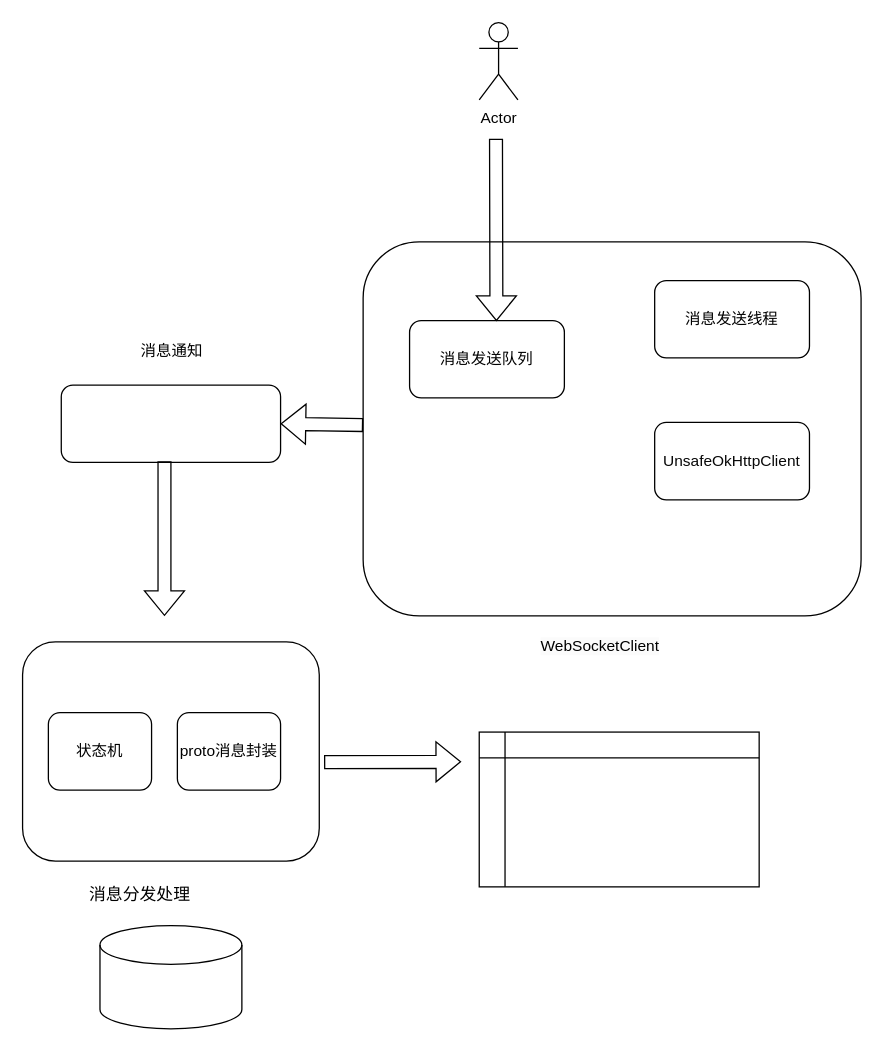
Some shapes in this 884 by 1051 pixel diagram are drawn without their labels. The shapes that lost their labels are listed below. From the top down, each one's centre as x and y in pixels, then its label:
At point 170,423: "ClientWebSocketListener".
At point 618,809: "用户界面".
At point 170,976: "数据库".
